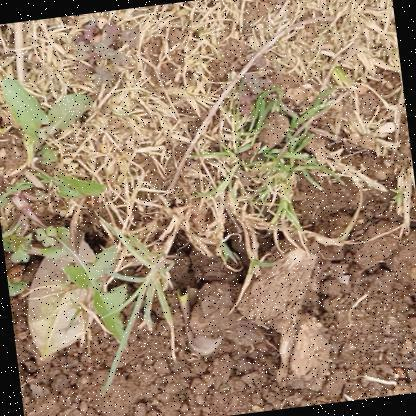Weeds: (0, 60, 135, 366)
